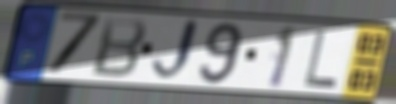1: (268, 25, 299, 91)
7: (48, 10, 106, 80)
9: (197, 21, 246, 87)
B: (89, 15, 150, 80)
J: (148, 16, 202, 86)
L: (302, 29, 341, 90)
